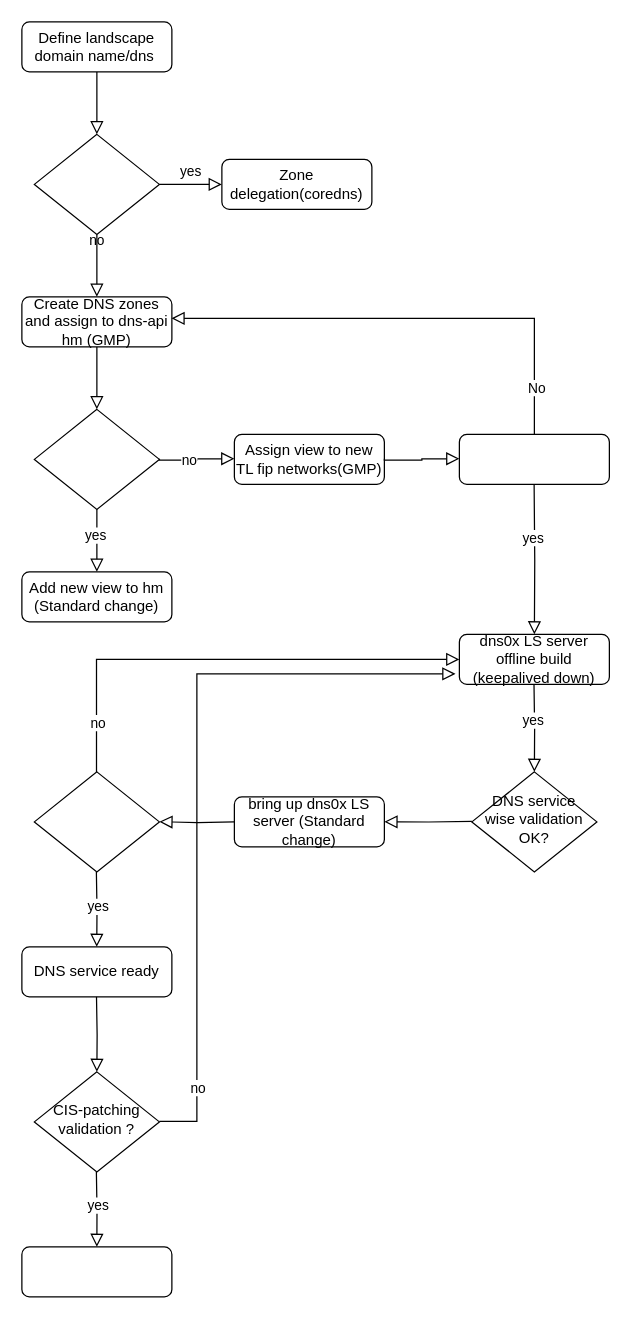
Some shapes in this 631 by 1319 pixel diagram are drawn without their labels. The shapes that lost their labels are listed below. From the top down, each one's centre as x and y in pixels, then its label:
[96,183]: New Top Level Domain ?
[96,458]: New view ?
[533,458]: Validate zone/views are OK ?
[96,821]: DNS functional validation
[96,1271]: Server Live Well done :)
